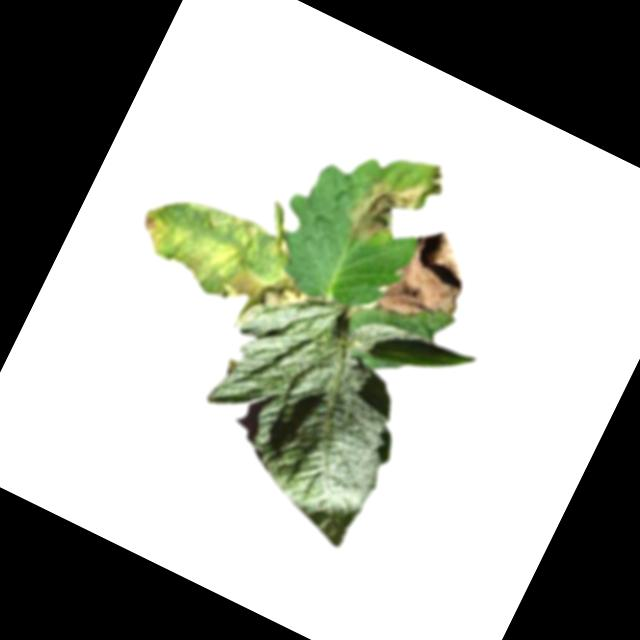Late_blight: (333, 135, 453, 266), (370, 218, 484, 342), (219, 251, 310, 330), (130, 207, 173, 254)
healthy: (172, 269, 441, 552)
